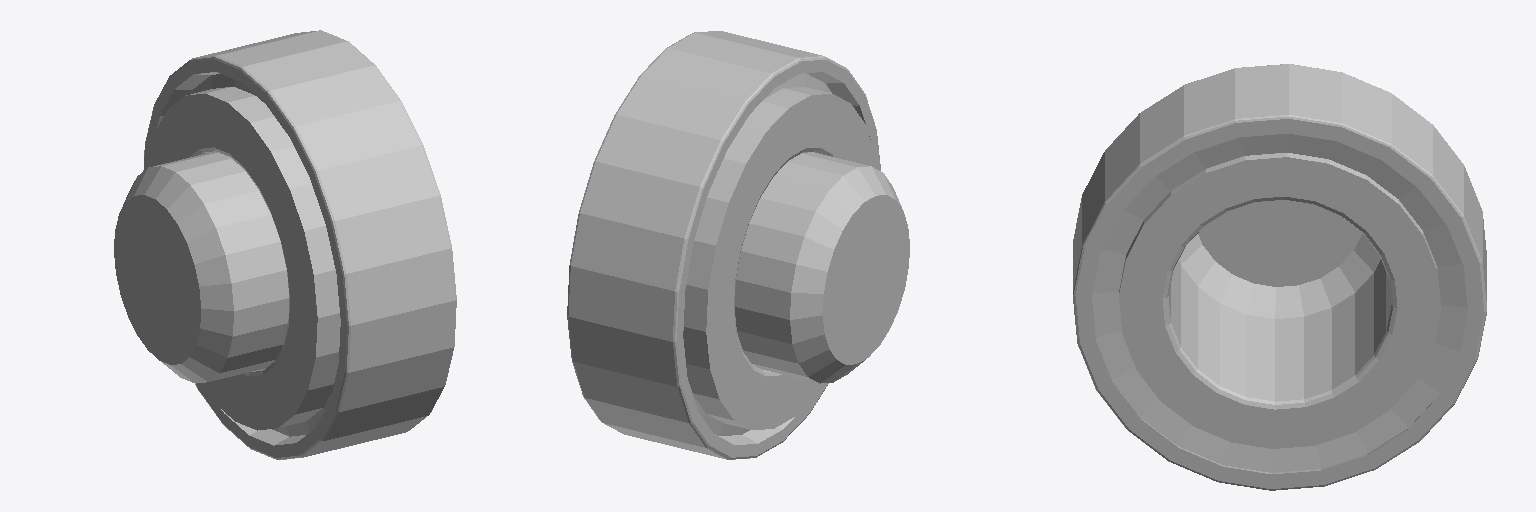
The model's file is original-54.obj.
3 views of the same model, side by side, from view 1: azimuth 30°, elevation 25°; view 2: azimuth 150°, elevation 25°; view 3: azimuth 270°, elevation 25° (orthographic).
Visible parts, largest first — view 1: W-POR-1650-1_1_4_1/mesh60/mesh60-geometry#mesh60-geometry; view 2: W-POR-1650-1_1_4_1/mesh60/mesh60-geometry#mesh60-geometry; view 3: W-POR-1650-1_1_4_1/mesh60/mesh60-geometry#mesh60-geometry.
Part boxes in pixels (left/top/right/bottom): W-POR-1650-1_1_4_1/mesh60/mesh60-geometry#mesh60-geometry: left=114, top=30, right=456, bottom=459; W-POR-1650-1_1_4_1/mesh60/mesh60-geometry#mesh60-geometry: left=567, top=31, right=909, bottom=459; W-POR-1650-1_1_4_1/mesh60/mesh60-geometry#mesh60-geometry: left=1073, top=64, right=1486, bottom=490.
Size of the model in its own units: 0.0119 by 0.0216 by 0.0216.